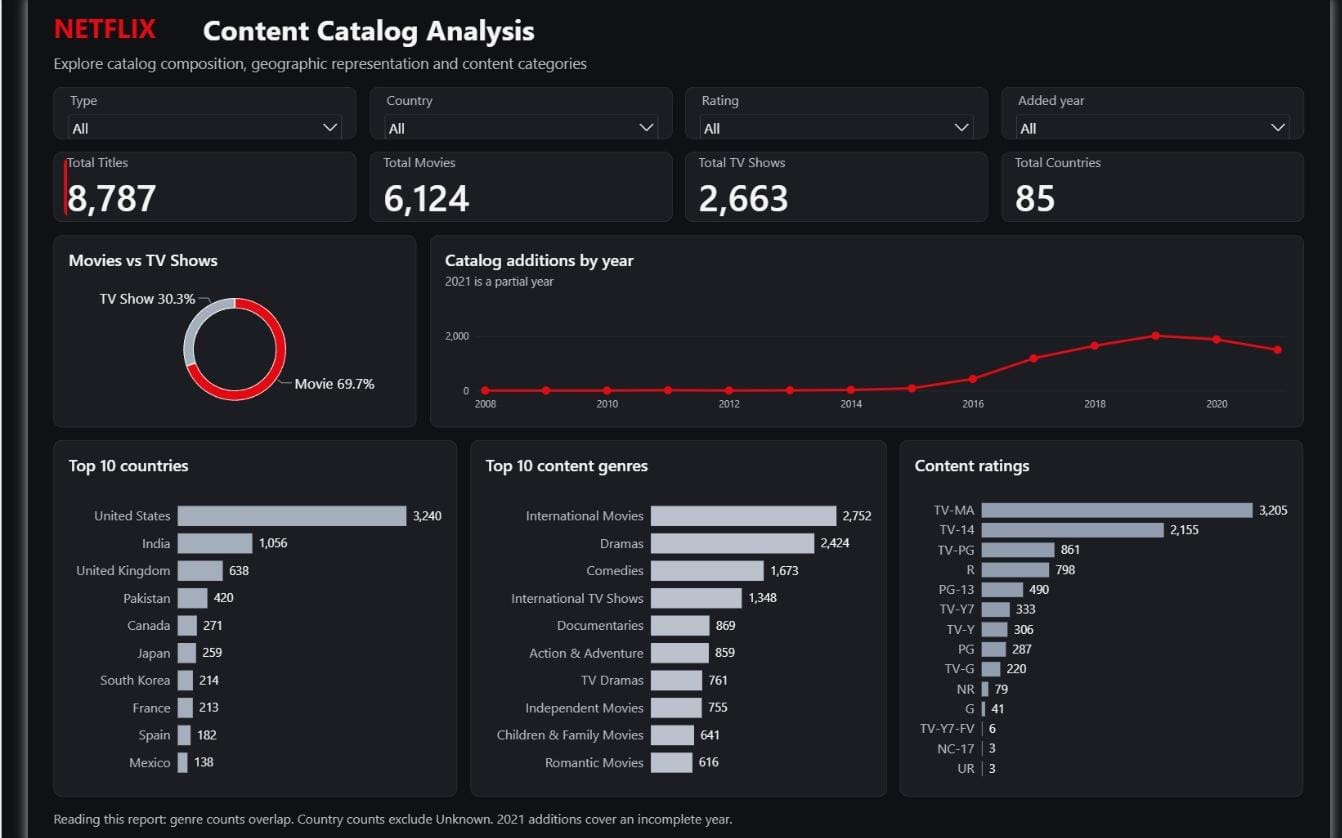

What the dashboard file says about the page in this screenshot:
{"tool":"powerbi","page":{"name":"Catalog overview","canvas":[1600,1044],"ordinal":0},"visuals":[{"type":"textbox","box":[32,16,180,48],"z":1},{"type":"textbox","box":[215,16,1300,48],"z":1},{"type":"textbox","box":[32,70,1450,30],"z":1},{"type":"textbox","box":[32,1000,1536,30],"z":1},{"type":"slicer","fields":{"Values":["NetflixCleaned.type"]},"box":[32,112,372,64],"z":2},{"type":"slicer","fields":{"Values":["NetflixCleaned.country"]},"box":[420,112,372,64],"z":3},{"type":"slicer","fields":{"Values":["NetflixCleaned.rating"]},"box":[808,112,372,64],"z":4},{"type":"slicer","fields":{"Values":["NetflixCleaned.Added Year"]},"box":[1196,112,372,64],"z":5},{"type":"cardVisual","fields":{"Data":["NetflixCleaned.Total Titles"]},"box":[32,192,372,86],"z":10},{"type":"cardVisual","fields":{"Data":["NetflixCleaned.Total Movies"]},"box":[420,192,372,86],"z":11},{"type":"cardVisual","fields":{"Data":["NetflixCleaned.Total TV Shows"]},"box":[808,192,372,86],"z":12},{"type":"cardVisual","fields":{"Data":["NetflixCleaned.Total Countries"]},"box":[1196,192,372,86],"z":13},{"type":"donutChart","title":"Movies vs TV Shows","fields":{"Category":["NetflixCleaned.type"],"Y":["NetflixCleaned.Total Titles"]},"box":[32,294,446,236],"z":20},{"type":"clusteredBarChart","title":"Top 10 countries","fields":{"Category":["NetflixCleaned.country"],"Y":["NetflixCleaned.Total Titles"]},"box":[32,546,496,438],"z":21},{"type":"clusteredBarChart","title":"Content ratings","fields":{"Category":["NetflixCleaned.rating"],"Y":["NetflixCleaned.Total Titles"]},"box":[1072,546,496,438],"z":22},{"type":"lineChart","title":"Catalog additions by year","fields":{"Category":["NetflixCleaned.Added Year"],"Y":["NetflixCleaned.Total Titles"]},"box":[494,294,1074,236],"z":23},{"type":"clusteredBarChart","title":"Top 10 content genres","fields":{"Category":["Genres.genre"],"Y":["Genres.Genre Titles"]},"box":[544,546,512,438],"z":24}]}

Visuals, with their boxes on the page's 1600x1044 design canvas (x1, y1, x2, y2). These are canvas units, not pixel positions in the 1342x838 screenshot, which may show the page scaled, cropped or inside an application window:
textbox: x1=32 y1=16 x2=212 y2=64
textbox: x1=215 y1=16 x2=1515 y2=64
textbox: x1=32 y1=70 x2=1482 y2=100
textbox: x1=32 y1=1000 x2=1568 y2=1030
slicer - NetflixCleaned.type: x1=32 y1=112 x2=404 y2=176
slicer - NetflixCleaned.country: x1=420 y1=112 x2=792 y2=176
slicer - NetflixCleaned.rating: x1=808 y1=112 x2=1180 y2=176
slicer - NetflixCleaned.Added Year: x1=1196 y1=112 x2=1568 y2=176
cardVisual - NetflixCleaned.Total Titles: x1=32 y1=192 x2=404 y2=278
cardVisual - NetflixCleaned.Total Movies: x1=420 y1=192 x2=792 y2=278
cardVisual - NetflixCleaned.Total TV Shows: x1=808 y1=192 x2=1180 y2=278
cardVisual - NetflixCleaned.Total Countries: x1=1196 y1=192 x2=1568 y2=278
"Movies vs TV Shows" donutChart: x1=32 y1=294 x2=478 y2=530
"Top 10 countries" clusteredBarChart: x1=32 y1=546 x2=528 y2=984
"Content ratings" clusteredBarChart: x1=1072 y1=546 x2=1568 y2=984
"Catalog additions by year" lineChart: x1=494 y1=294 x2=1568 y2=530
"Top 10 content genres" clusteredBarChart: x1=544 y1=546 x2=1056 y2=984
